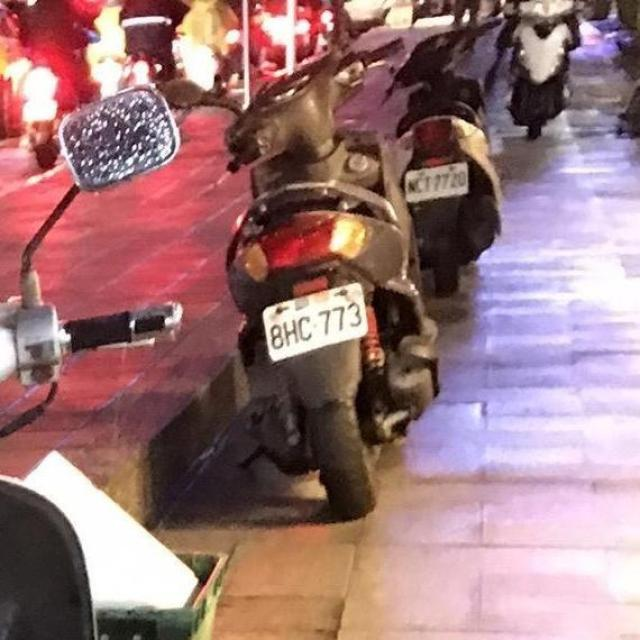W: (262, 283, 376, 365), (403, 160, 471, 207)
